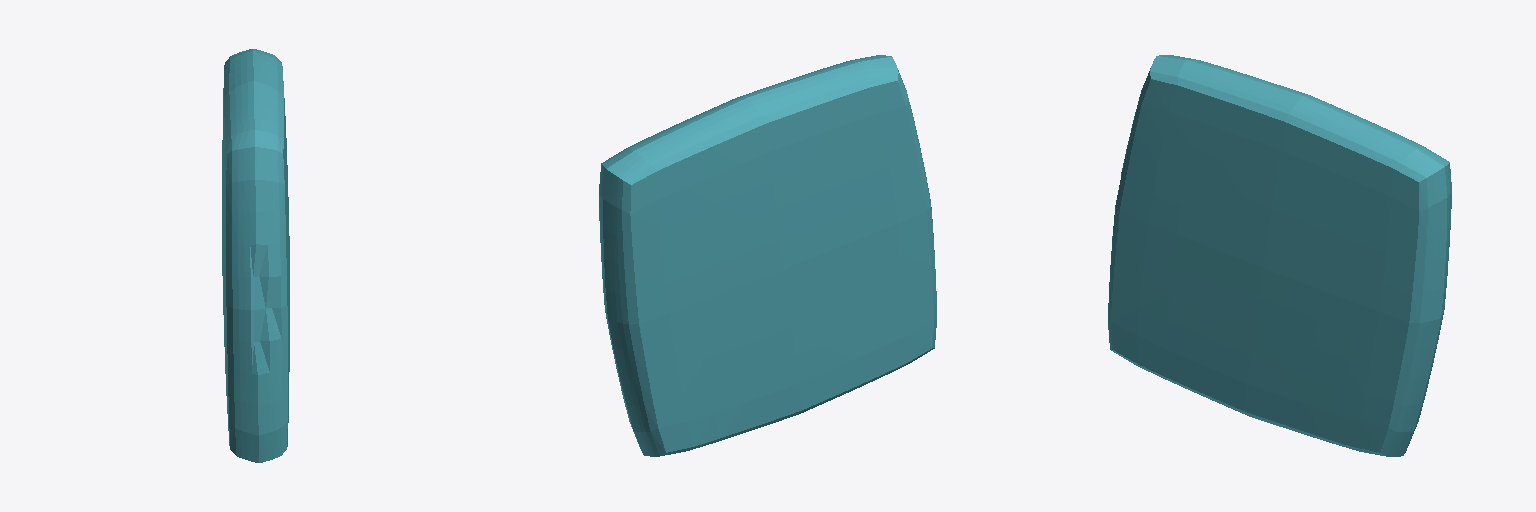
The model's file is pip8.obj.
3 renders of one model, left to right at view 1: azimuth 30°, elevation 25°; view 2: azimuth 150°, elevation 25°; view 3: azimuth 270°, elevation 25°, orthographic.
Parts seen in each view (by area): view 1: pip8; view 2: pip8; view 3: pip8.
Part boxes in pixels (bbox=[...]): pip8: bbox=[222, 49, 289, 462]; pip8: bbox=[599, 55, 936, 456]; pip8: bbox=[1108, 55, 1451, 456].
Size of the model in its own units: 0.4125 by 0.7036 by 0.637.